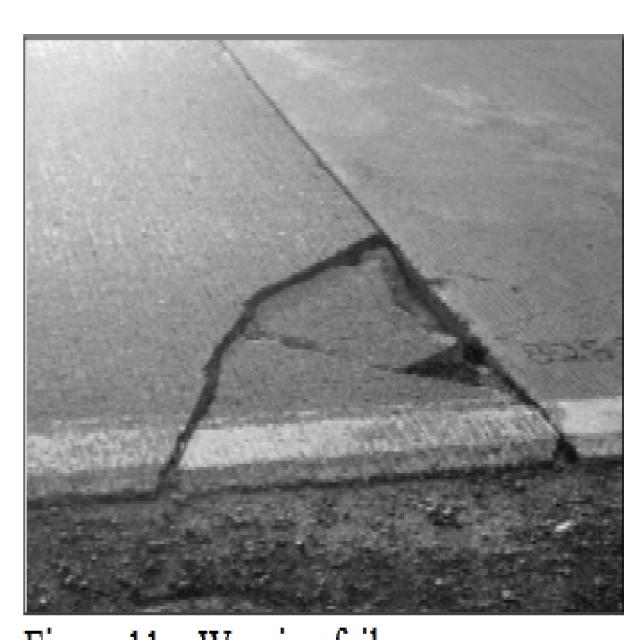Pothole: (206, 38, 621, 602)
